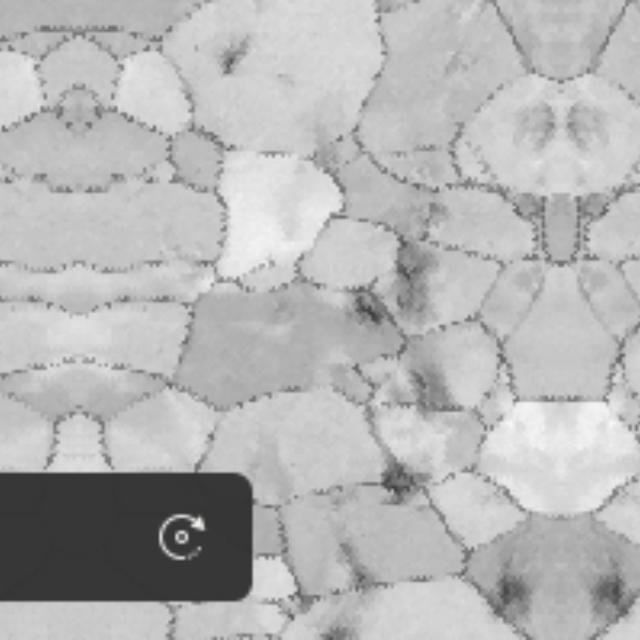good_void: (386, 200, 444, 322), (560, 88, 630, 171), (491, 88, 560, 171), (399, 350, 460, 434), (373, 449, 444, 517), (321, 533, 385, 597), (211, 21, 256, 95), (485, 563, 540, 622), (581, 563, 636, 622), (344, 286, 387, 345), (316, 603, 367, 640), (295, 596, 320, 619)
